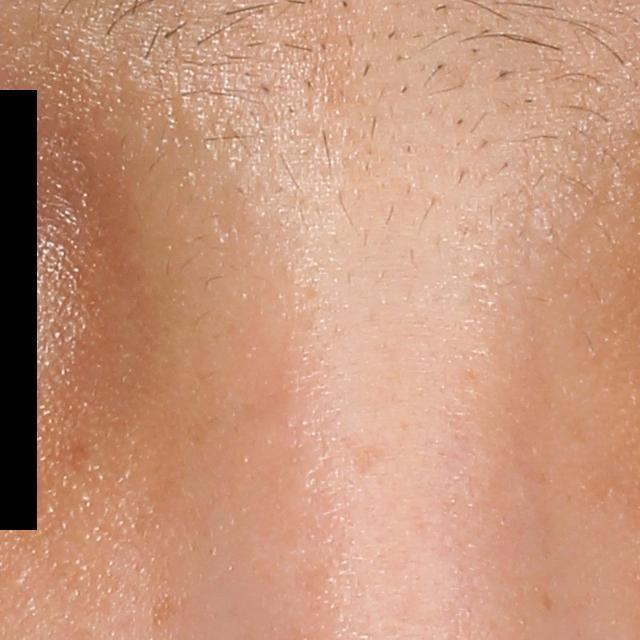melasma: (339, 432, 398, 477), (150, 595, 184, 629), (541, 590, 556, 611)
